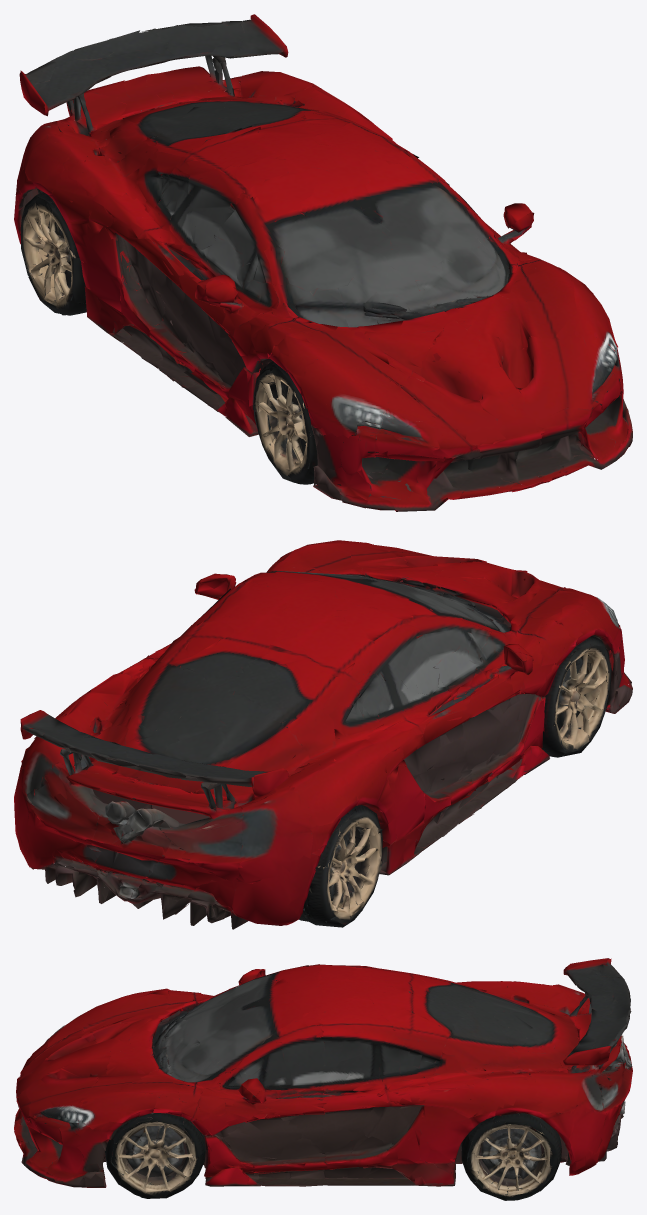
The model's file is eclipse-gtr.glb.
3 views of the same model, one above another, from view 1: azimuth 30°, elevation 25°; view 2: azimuth 150°, elevation 25°; view 3: azimuth 270°, elevation 25° (orthographic). The views are drawn at different scales.
Visible parts, largest first — view 1: eclipse-gtr; view 2: eclipse-gtr; view 3: eclipse-gtr.
Boxes of the visible parts, x1,y1,x2,y2 form: eclipse-gtr: (14,14,632,511); eclipse-gtr: (14,540,632,929); eclipse-gtr: (14,958,632,1200).
Bounding box in the file's own units: 2.22 × 1.29 × 4.6.
1 material, 1 textured.
